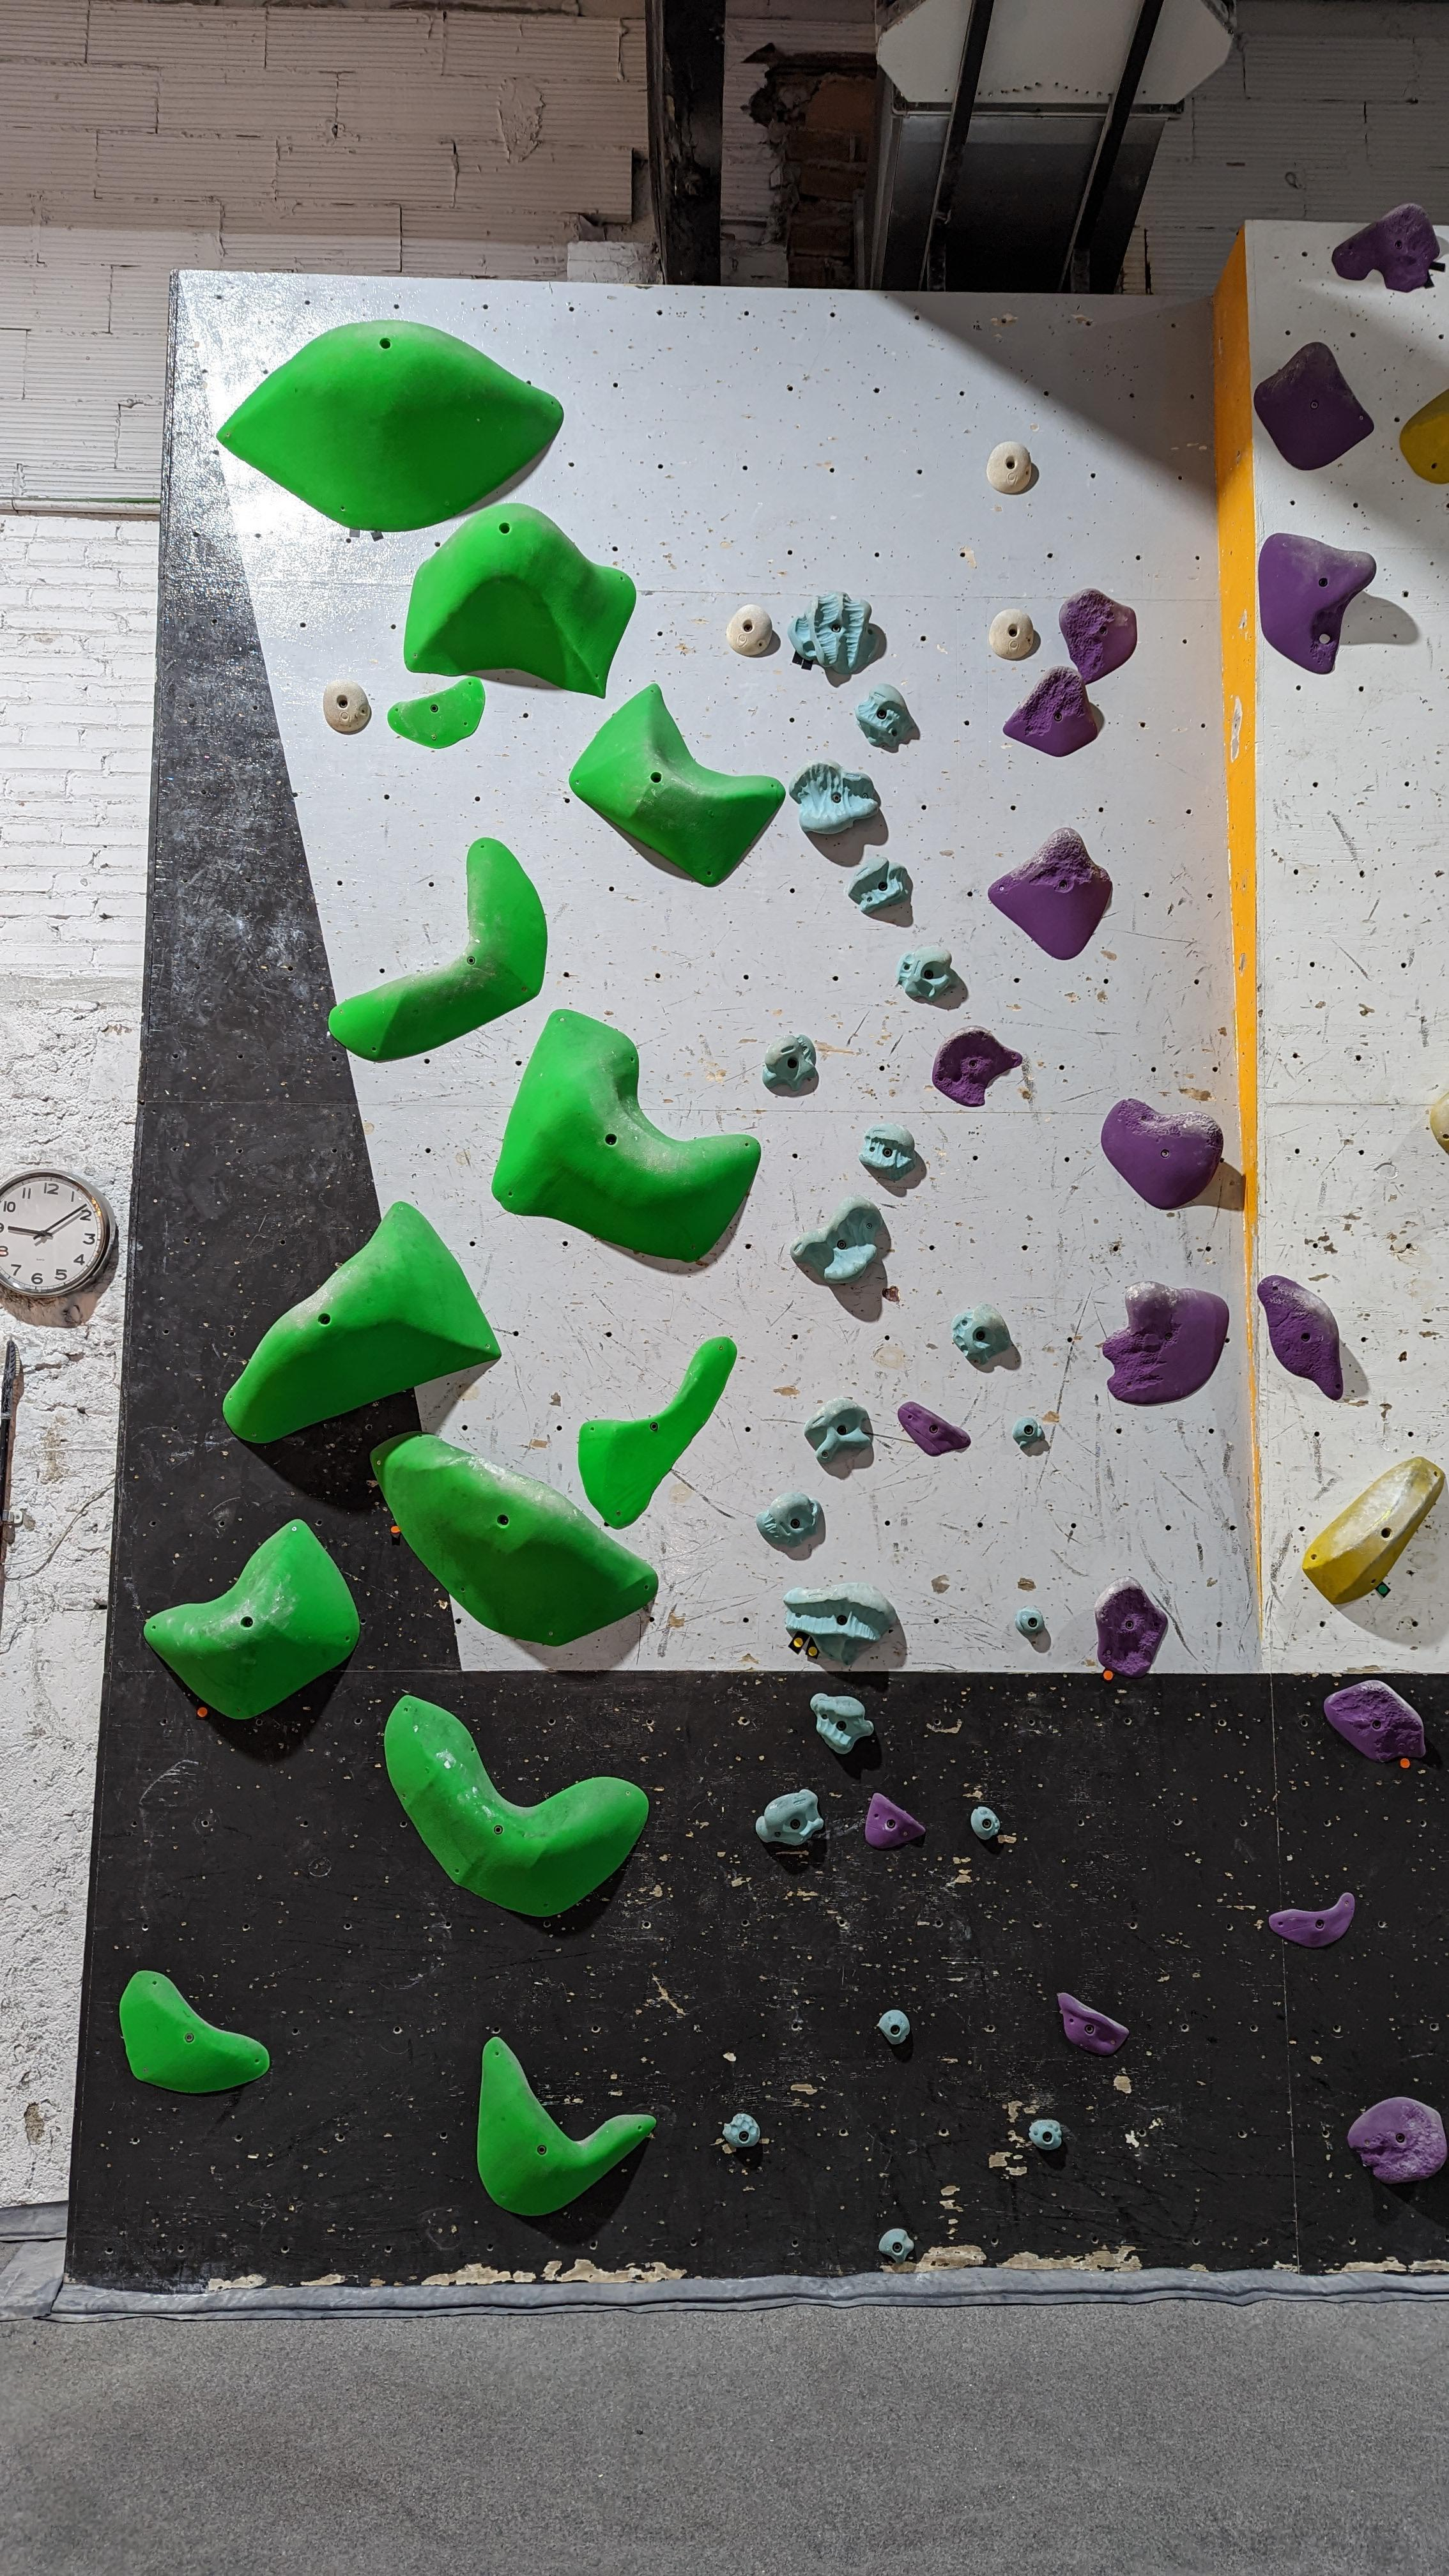hold: (216, 320, 563, 533), (492, 1008, 761, 1261), (221, 1201, 501, 1444), (370, 1431, 658, 1647), (384, 1695, 649, 1916), (327, 837, 547, 1062), (403, 502, 637, 699), (568, 683, 786, 885), (143, 1518, 361, 1720), (478, 2036, 656, 2217), (579, 1336, 738, 1529), (1302, 1456, 1445, 1605), (120, 1971, 269, 2093), (987, 828, 1113, 961), (1258, 533, 1376, 672), (1102, 1281, 1230, 1405), (1253, 341, 1375, 471), (1100, 1099, 1224, 1210), (1258, 1274, 1345, 1399), (1330, 202, 1440, 292), (782, 1582, 897, 1667), (1346, 2097, 1447, 2183), (1003, 665, 1097, 757), (1323, 1679, 1426, 1762), (791, 1194, 885, 1284), (787, 591, 881, 674), (1060, 587, 1138, 685), (932, 1026, 1023, 1108), (1095, 1576, 1168, 1677), (387, 676, 487, 748), (787, 757, 879, 835), (1399, 387, 1449, 485), (1269, 1893, 1355, 1948), (805, 1396, 872, 1463), (1058, 1992, 1129, 2056), (897, 1401, 971, 1456), (755, 1789, 824, 1845), (855, 683, 915, 747), (810, 1693, 874, 1753), (755, 1491, 821, 1548), (952, 1304, 1012, 1364), (847, 856, 909, 915), (895, 945, 959, 1001), (858, 1122, 916, 1180), (865, 1792, 925, 1849), (763, 1035, 819, 1092), (322, 679, 370, 732), (725, 603, 771, 655), (987, 441, 1031, 494), (989, 609, 1033, 660), (722, 2112, 759, 2148), (1430, 1090, 1449, 1155), (879, 2229, 915, 2263), (879, 2010, 909, 2043), (1028, 2120, 1062, 2150), (1012, 1417, 1042, 1449), (971, 1806, 1000, 1840), (1016, 1606, 1046, 1635)
